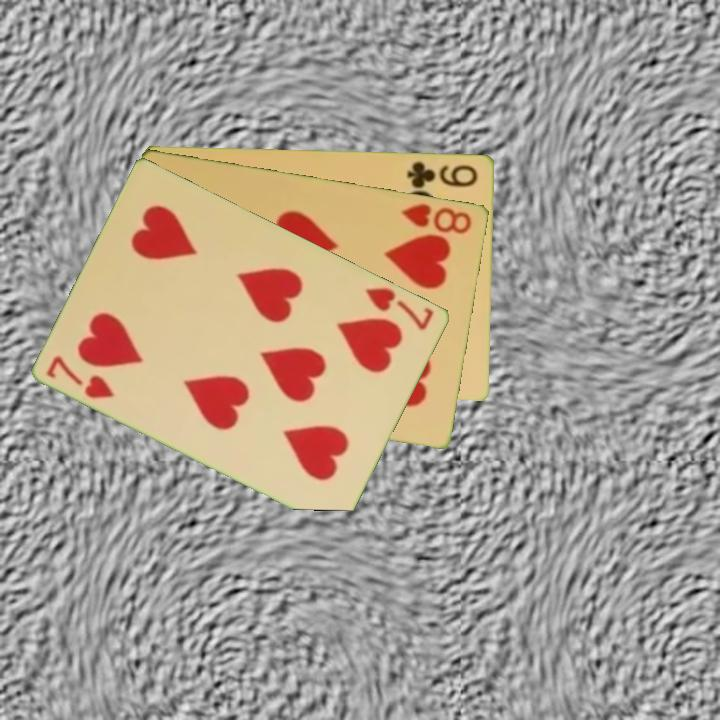7h: (43, 351, 118, 402), (362, 283, 437, 333)
8h: (397, 199, 475, 237)
9c: (403, 158, 481, 190)
